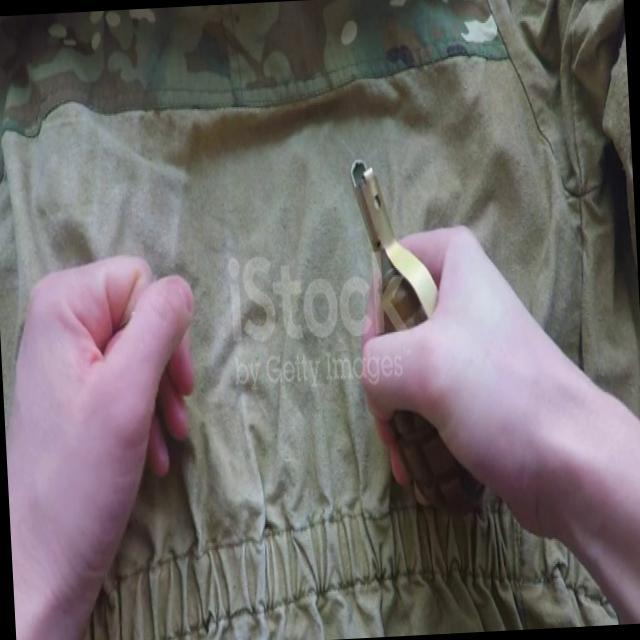grenade: (352, 149, 488, 522)
